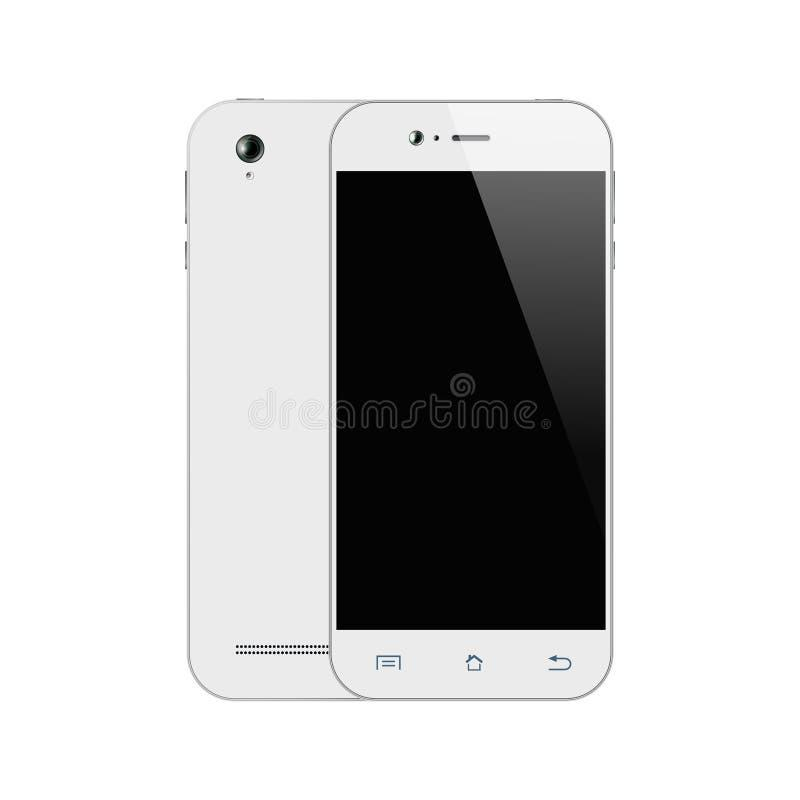Smart Phone: (324, 100, 619, 703)
